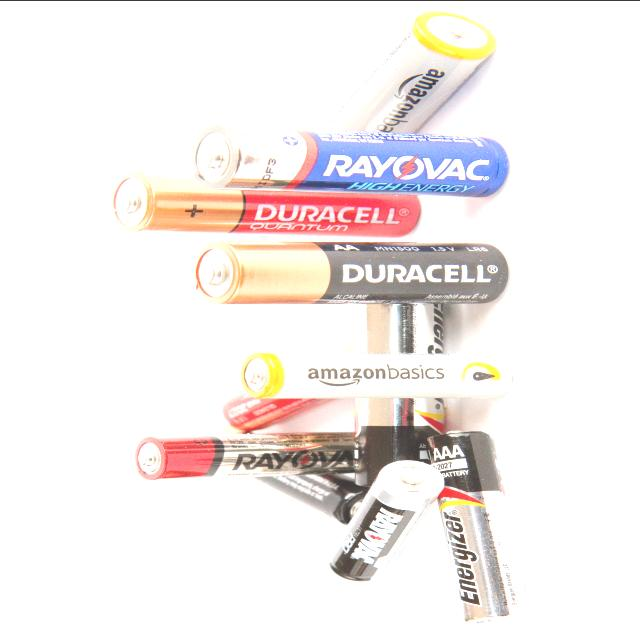AA: (190, 122, 513, 198), (191, 238, 513, 304), (109, 170, 424, 237)
AAA: (421, 427, 534, 625), (324, 458, 448, 582), (238, 351, 517, 398), (132, 428, 356, 480)
